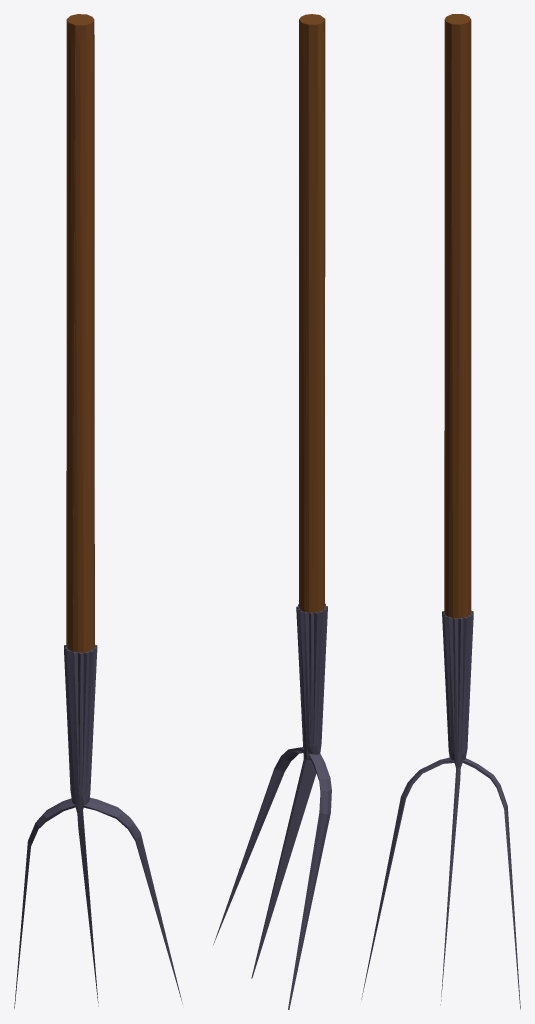
The model's file is Widly1.fbx.
The picture shows the model from 3 angles, left to right: view 1: azimuth 90°, elevation 25°; view 2: azimuth 210°, elevation 25°; view 3: azimuth 270°, elevation 25°; orthographic projection. The views are drawn at different scales.
Parts seen in each view (by area): view 1: Widly; view 2: Widly; view 3: Widly.
Part boxes in pixels (x1,y1,x2,y2): Widly: (14, 14, 182, 1008); Widly: (213, 14, 331, 1009); Widly: (361, 14, 520, 1009).
Bounding box in the file's own units: 20.01 × 133 × 10.04.
